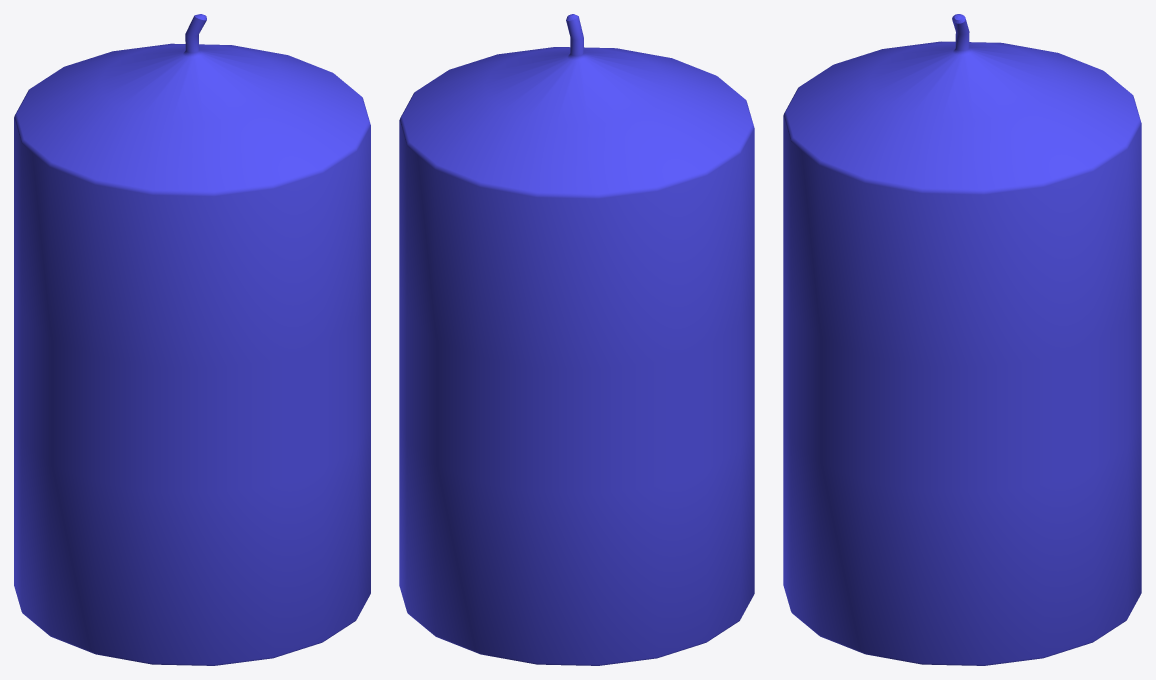
The model's file is Candle Christmas.FBX.
3 views of the same model, side by side, from view 1: azimuth 30°, elevation 25°; view 2: azimuth 150°, elevation 25°; view 3: azimuth 270°, elevation 25° (orthographic).
Visible parts, largest first — view 1: Candle; view 2: Candle; view 3: Candle.
Part boxes in pixels (box(x1,y1,x2,y2)): Candle: box(14, 14, 370, 665); Candle: box(399, 14, 754, 665); Candle: box(783, 14, 1141, 665).
Size of the model in its own units: 3.83 by 6.87 by 3.85.
